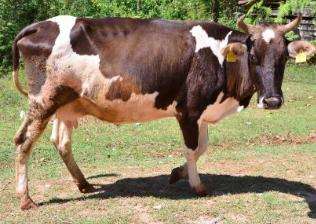cow: (16, 17, 316, 210)
